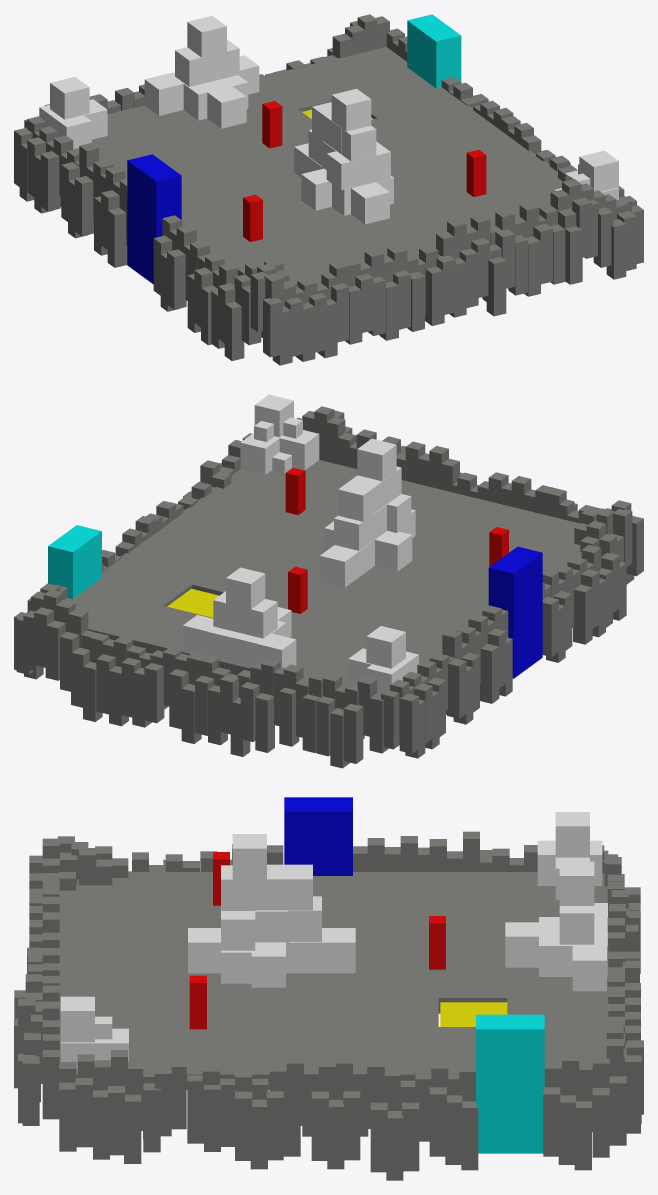
The model's file is level1_b1_25.fbx.
The picture shows the model from 3 angles, top to bottom: view 1: azimuth 30°, elevation 25°; view 2: azimuth 150°, elevation 25°; view 3: azimuth 270°, elevation 25°; orthographic projection. The views are drawn at different scales.
Parts seen in each view (by area): view 1: pCube167, pCube256, pCube257, pCube151, pCube163, pCube318, pCube316, pCube315, pCube152, pCube144, pCube314, pCube149 (+60 smaller); view 2: pCube167, pCube256, pCube257, pCube322, pCube163, pCube151, pCube321, pCube315, pCube156, pCube314, pCube141, pCube185 (+61 smaller); view 3: pCube167, pCube257, pCube256, pCube144, pCube322, pCube315, pCube151, pCube163, pCube317, pCube321, pCube316, pCube158 (+71 smaller).
Part boxes in pixels (box(x1,y1,x2,y2)): pCube167: box(92, 47, 562, 284); pCube256: box(127, 154, 181, 284); pCube257: box(407, 14, 461, 88); pCube151: box(331, 88, 371, 131); pCube163: box(50, 77, 89, 119); pCube318: box(144, 73, 183, 115); pCube316: box(207, 86, 246, 128); pCube315: box(187, 15, 226, 58); pCube152: box(351, 182, 389, 224); pCube144: box(579, 150, 618, 191); pCube314: box(175, 47, 214, 86); pCube149: box(326, 151, 366, 190); pCube167: box(64, 460, 581, 686); pCube256: box(488, 546, 542, 678); pCube257: box(48, 525, 101, 598); pCube322: box(338, 479, 377, 521); pCube163: box(366, 626, 405, 668); pCube151: box(357, 438, 396, 481); pCube321: box(320, 545, 359, 587); pCube315: box(226, 567, 265, 609); pCube156: box(375, 530, 412, 571); pCube314: box(238, 599, 277, 638); pCube141: box(240, 433, 279, 474); pCube185: box(343, 703, 363, 763); pCube167: box(59, 871, 608, 1087); pCube257: box(476, 1014, 544, 1153); pCube256: box(284, 797, 352, 875); pCube144: box(60, 996, 94, 1042); pCube322: box(278, 864, 312, 910); pCube315: box(559, 861, 594, 905); pCube151: box(232, 834, 266, 879); pCube163: box(555, 812, 589, 857); pCube317: box(572, 946, 606, 991); pCube321: box(321, 928, 355, 973); pCube316: box(505, 922, 539, 967); pCube158: box(251, 942, 285, 987).
Size of the model in its own units: 15.91 by 6.98 by 18.33.
